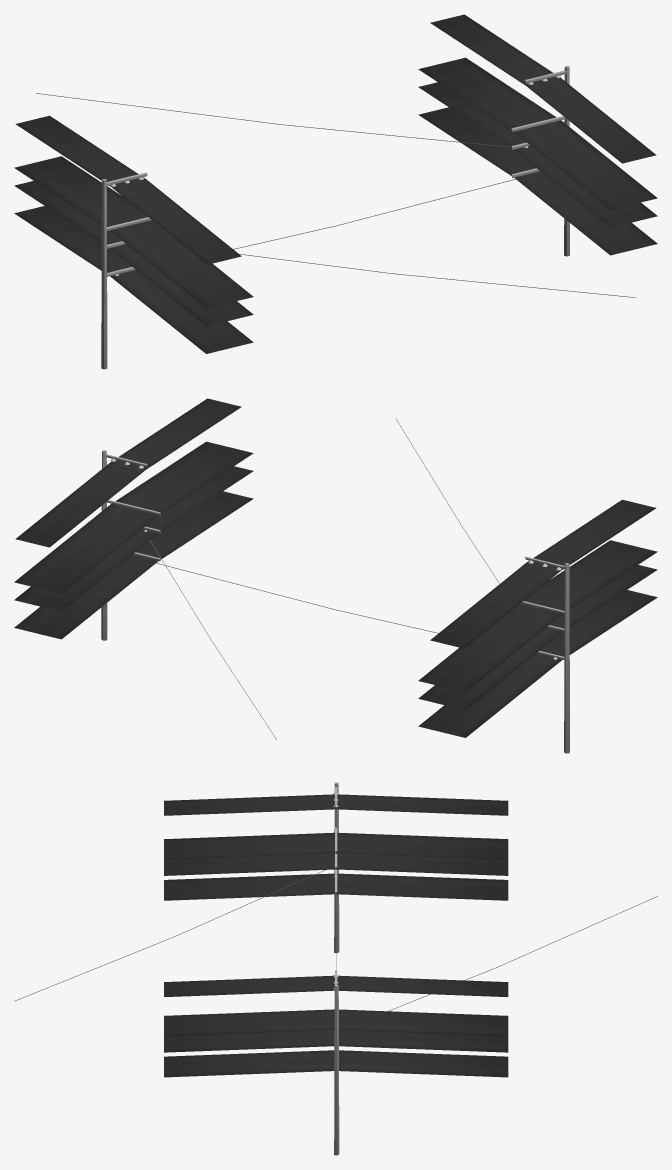
The picture shows the model from 3 angles, top to bottom: view 1: azimuth 30°, elevation 25°; view 2: azimuth 150°, elevation 25°; view 3: azimuth 270°, elevation 25°; orthographic projection. The views are drawn at different scales.
Parts seen in each view (by area): view 1: FRAME_ROOT; view 2: FRAME_ROOT; view 3: FRAME_ROOT.
Boxes of the visible parts, x1,y1,x2,y2 form: FRAME_ROOT: (14, 14, 657, 369); FRAME_ROOT: (14, 398, 657, 753); FRAME_ROOT: (14, 782, 657, 1155).
Bounding box in the file's own units: 84.31 × 32.42 × 112.
Materials: 2 (1 with a texture image).
